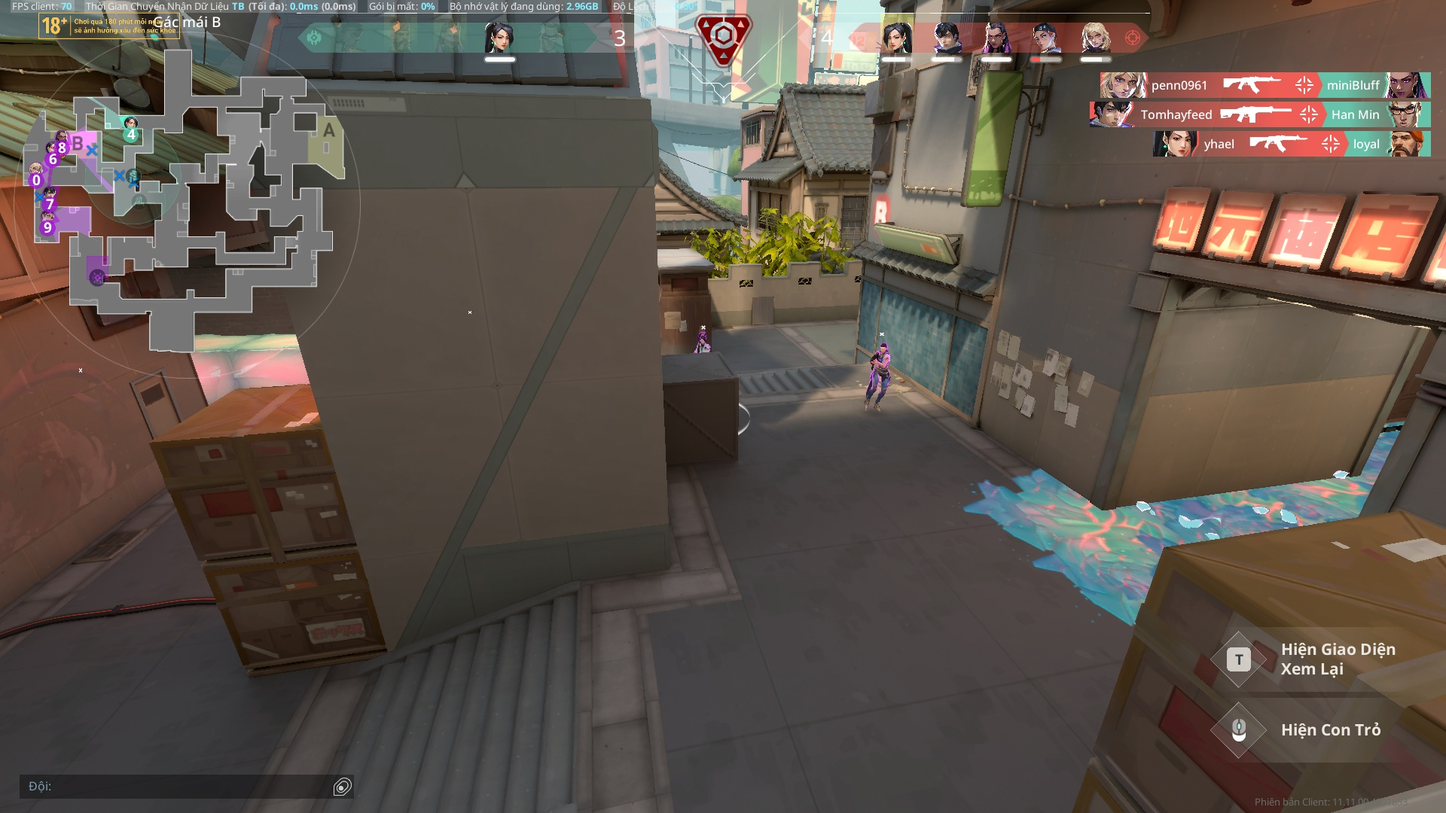body: (872, 350, 890, 373), (695, 343, 711, 352)
head: (699, 333, 706, 344), (880, 342, 886, 353)
